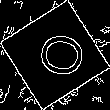O_W: (25, 28, 85, 82)
